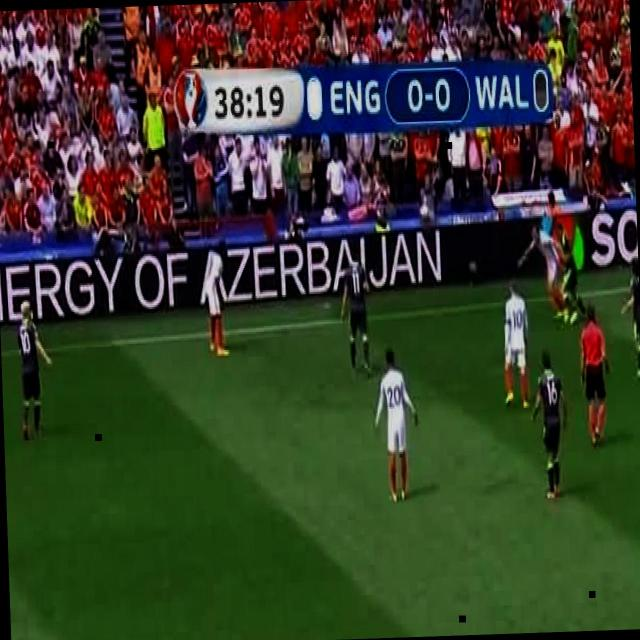player-white: (372, 348, 420, 503), (527, 349, 571, 499), (14, 298, 54, 443), (577, 305, 611, 447), (517, 223, 565, 322), (338, 246, 372, 374), (500, 278, 530, 410), (202, 242, 232, 358), (554, 221, 584, 323), (618, 259, 640, 383)
